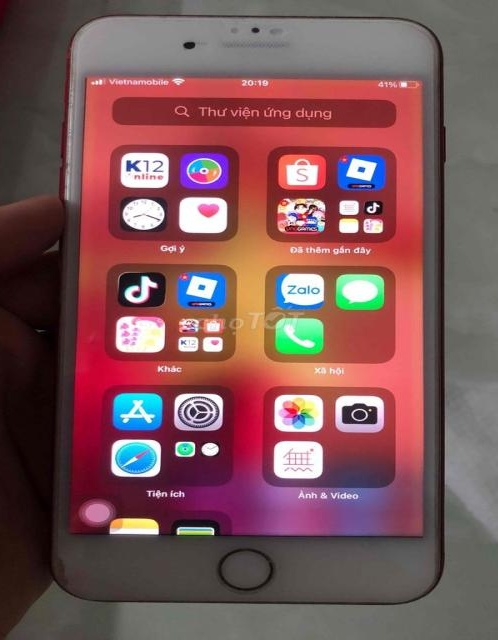physical_damage: (47, 549, 78, 586)
scratch: (134, 12, 425, 30), (55, 34, 77, 203)
